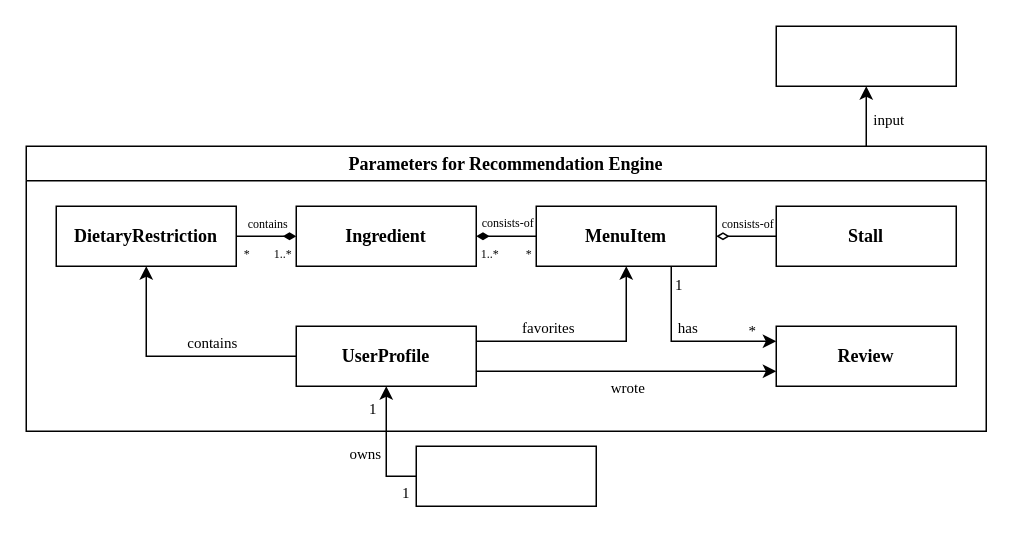
Some shapes in this 1013 by 533 pixel diagram are drawn without their labels. Each missing label, with the centre of its shape:
"Recommendation Engine" goes at [865,55].
"User" goes at [505,475].
